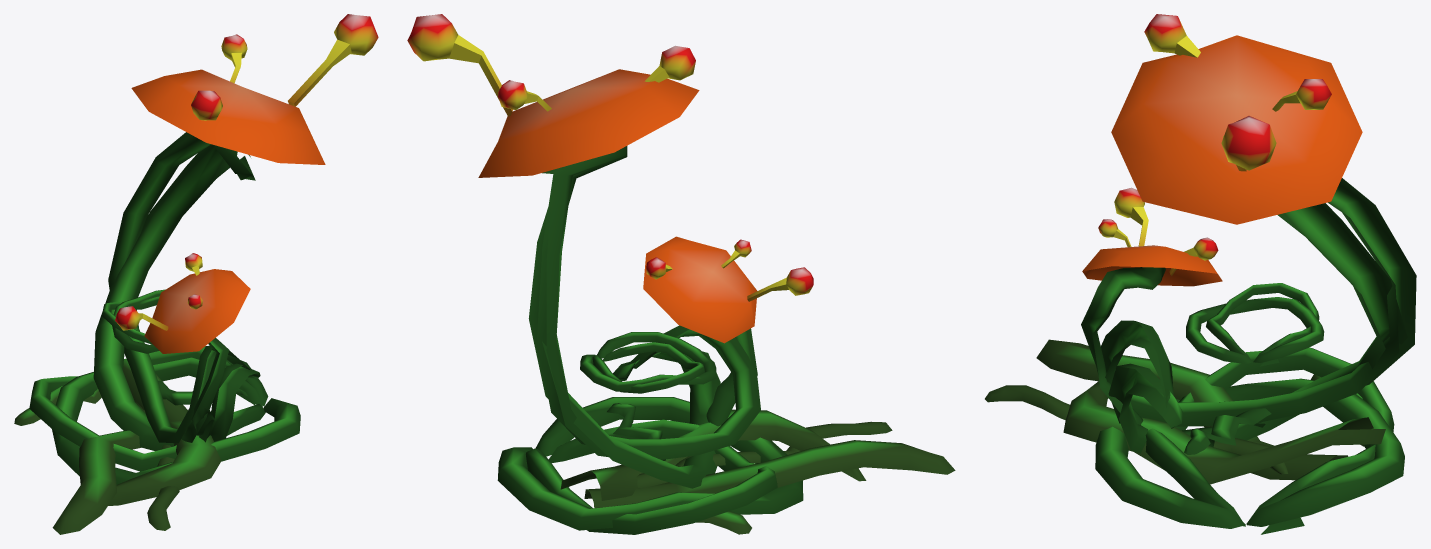
Rendered from Orange_2.fbx.
The picture shows the model from 3 angles, left to right: view 1: azimuth 30°, elevation 25°; view 2: azimuth 150°, elevation 25°; view 3: azimuth 270°, elevation 25°; orthographic projection. The views are drawn at different scales.
Visible parts, largest first — view 1: pCube143; view 2: pCube143; view 3: pCube143.
Part boxes in pixels (box(x1,y1,x2,y2)): pCube143: box(14, 14, 378, 534); pCube143: box(407, 14, 955, 534); pCube143: box(985, 14, 1416, 534).
Size of the model in its own units: 424 by 383 by 317.
